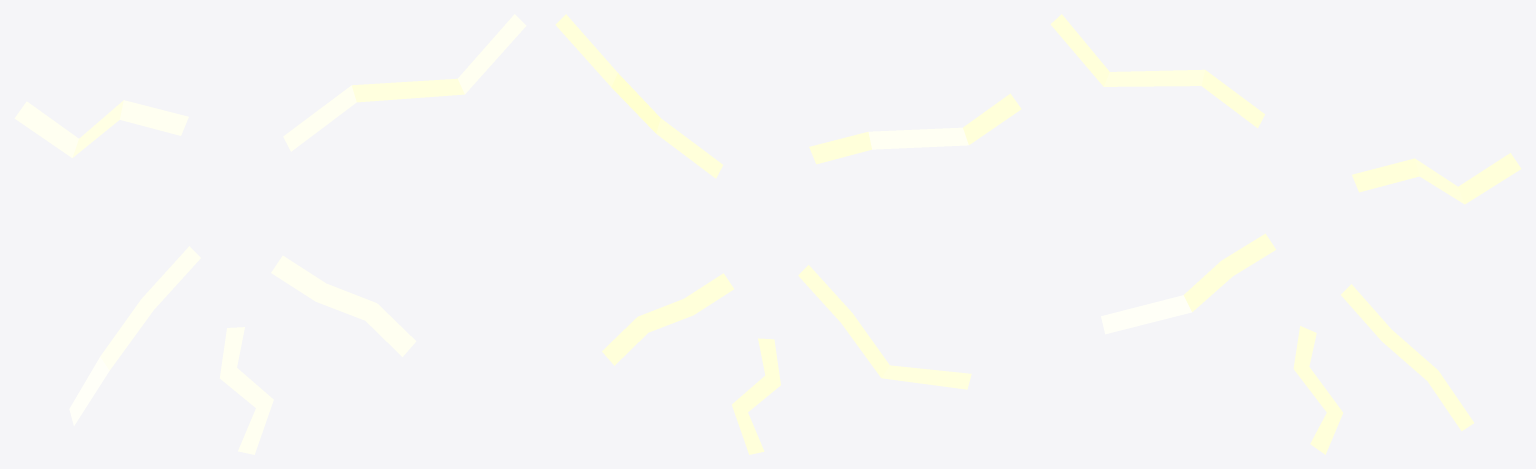
Rendered from soberano_fissuras.fbx.
3 renders of one model, left to right at view 1: azimuth 30°, elevation 25°; view 2: azimuth 150°, elevation 25°; view 3: azimuth 330°, elevation 25°, orthographic. The views are drawn at different scales.
Parts seen in each view (by area): view 1: soberano_fissuras; view 2: soberano_fissuras; view 3: soberano_fissuras.
Part boxes in pixels (bbox=[...]): soberano_fissuras: bbox=[14, 14, 526, 454]; soberano_fissuras: bbox=[555, 14, 1021, 454]; soberano_fissuras: bbox=[1050, 14, 1521, 454].
Bounding box in the file's own units: 2.51 × 2.05 × 0.25.
